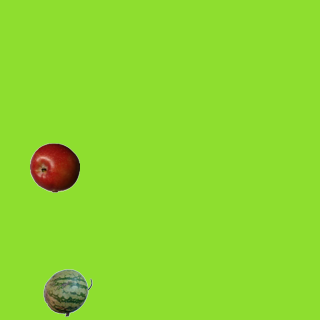Apple Braeburn: (29, 142, 79, 192)
Watermelon: (42, 267, 92, 317)
